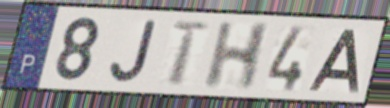4: (265, 23, 307, 94)
8: (54, 15, 100, 84)
A: (305, 27, 361, 95)
H: (200, 21, 273, 92)
J: (107, 18, 160, 85)
T: (167, 19, 211, 88)
